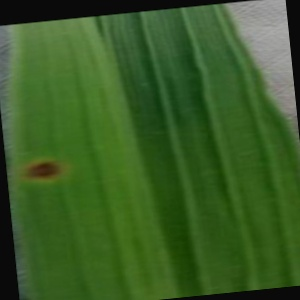Bacterial_Leaf_Blight: (14, 146, 74, 194)
